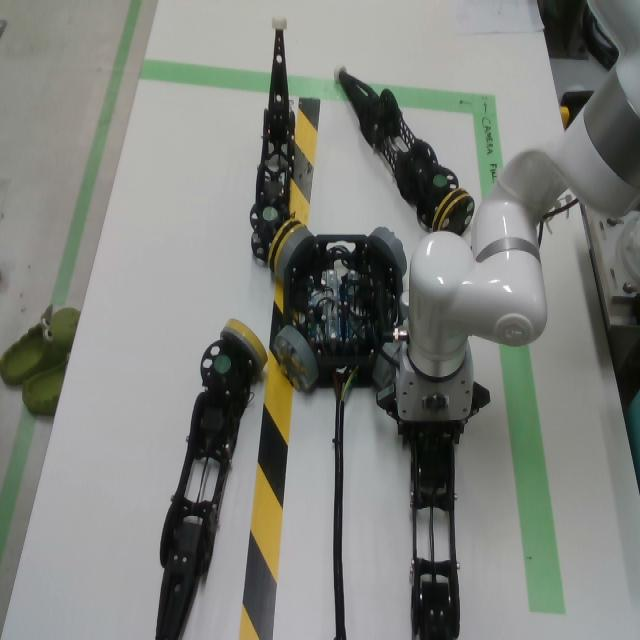body: (284, 235, 403, 387)
body_connector: (271, 325, 319, 391), (276, 227, 315, 279), (369, 227, 407, 277), (372, 355, 397, 389), (382, 343, 402, 359)
gripper: (376, 341, 490, 448)
leg: (155, 319, 268, 640), (333, 60, 475, 236), (250, 13, 295, 263), (409, 423, 460, 640)
leg_connector: (220, 319, 268, 372), (432, 188, 475, 236), (268, 219, 305, 273)
leg_marker: (213, 353, 231, 373), (263, 207, 278, 221), (433, 175, 447, 187)
